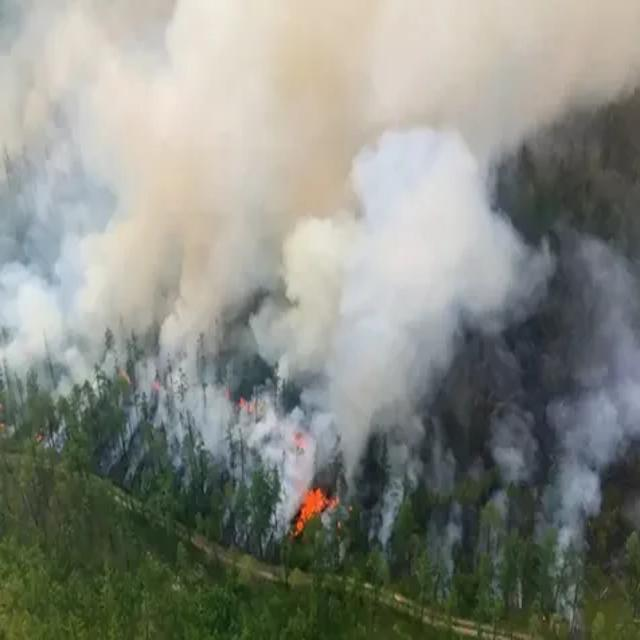Smoke: (0, 0, 640, 474)
